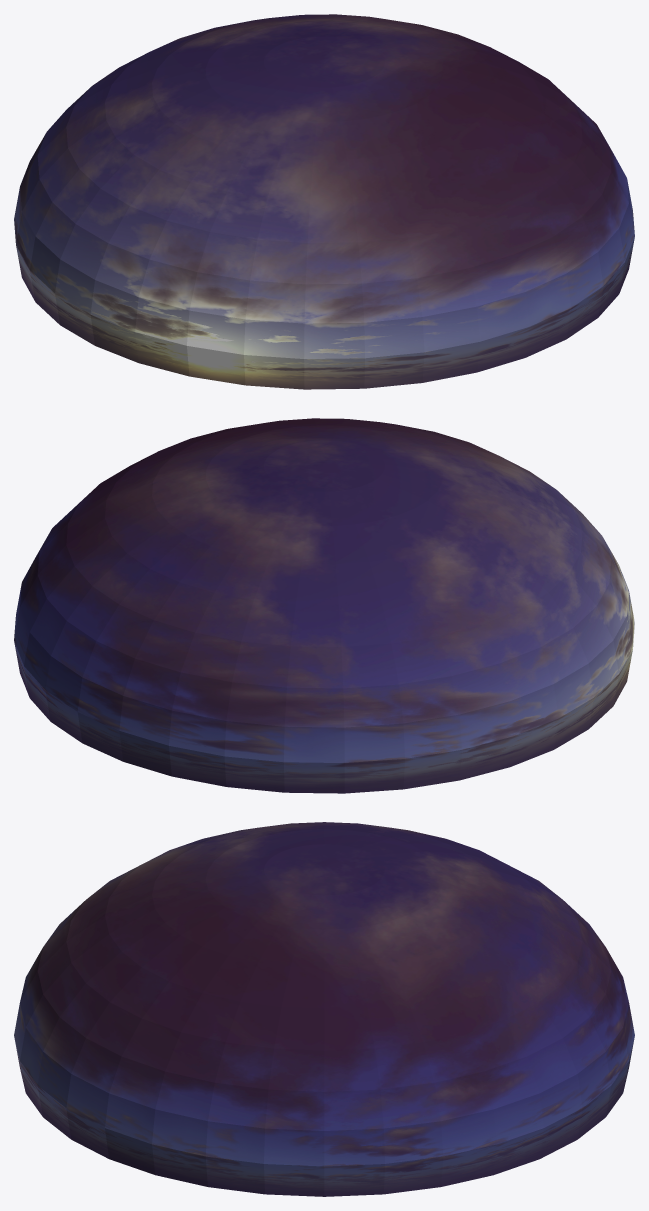
The model's file is skydome.obj.
The picture shows the model from 3 angles, top to bottom: view 1: azimuth 30°, elevation 25°; view 2: azimuth 150°, elevation 25°; view 3: azimuth 270°, elevation 25°; orthographic projection.
Parts seen in each view (by area): view 1: Sphere; view 2: Sphere; view 3: Sphere.
Part boxes in pixels (<box>): Sphere: <box>14,14,634,389</box>; Sphere: <box>14,418,634,793</box>; Sphere: <box>14,822,634,1196</box>.
Size of the model in its own units: 120 by 43.09 by 120.
Materials: 1 (1 with a texture image).
